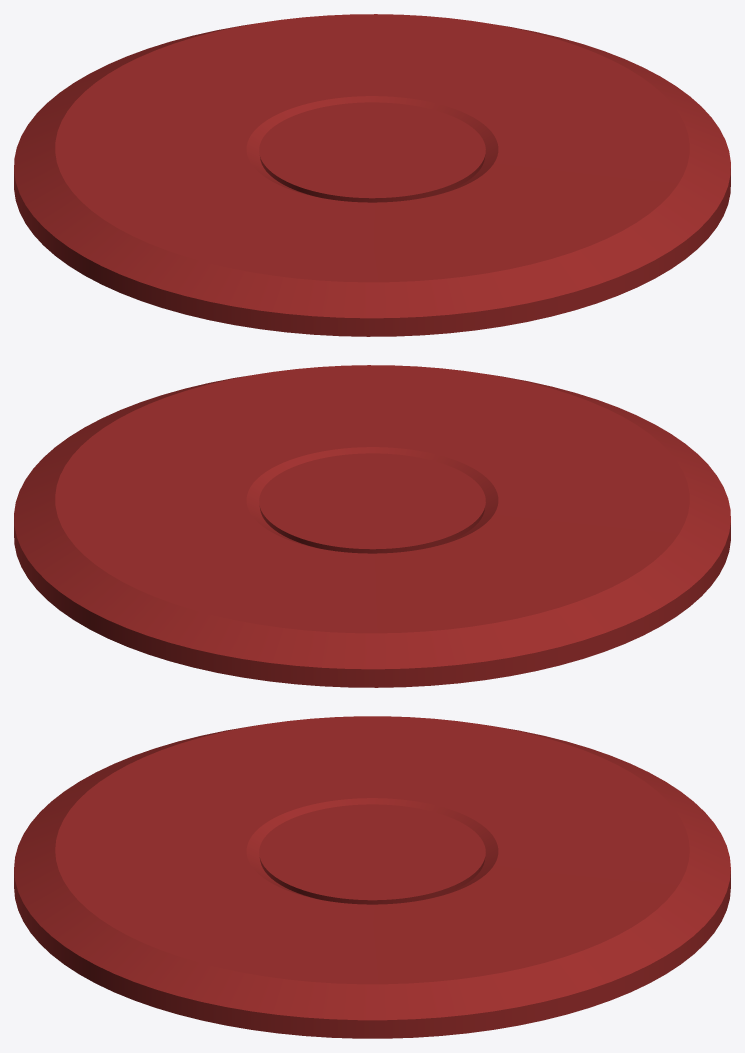
Rendered from super_button_plate.fbx.
3 renders of one model, top to bottom at view 1: azimuth 30°, elevation 25°; view 2: azimuth 150°, elevation 25°; view 3: azimuth 270°, elevation 25°, orthographic.
Parts seen in each view (by area): view 1: Cylinder.011; view 2: Cylinder.011; view 3: Cylinder.011.
Boxes of the visible parts, x1,y1,x2,y2 form: Cylinder.011: (14,14,730,336); Cylinder.011: (14,365,730,687); Cylinder.011: (14,716,730,1038).
Size of the model in its own units: 156 by 8.88 by 156.
